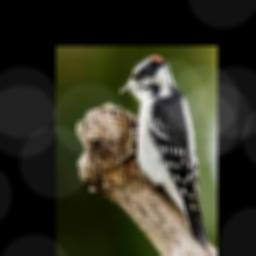Woodpecker: (112, 54, 214, 249)
